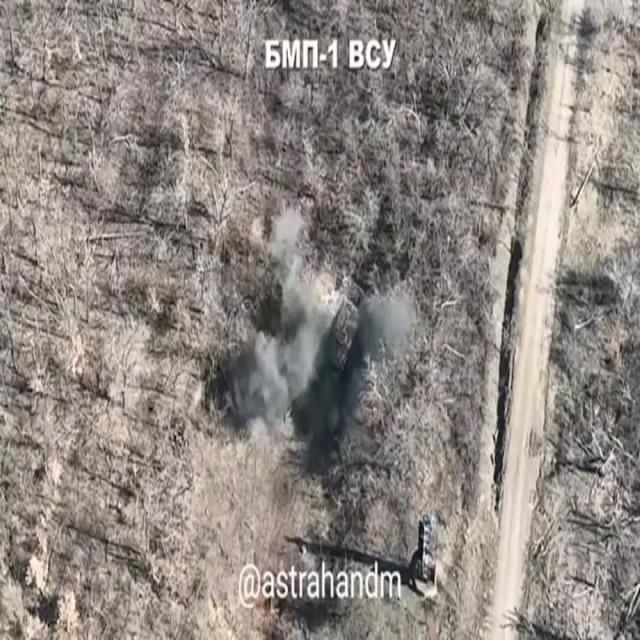ART: (321, 297, 363, 384)
BRT: (411, 511, 444, 602)
